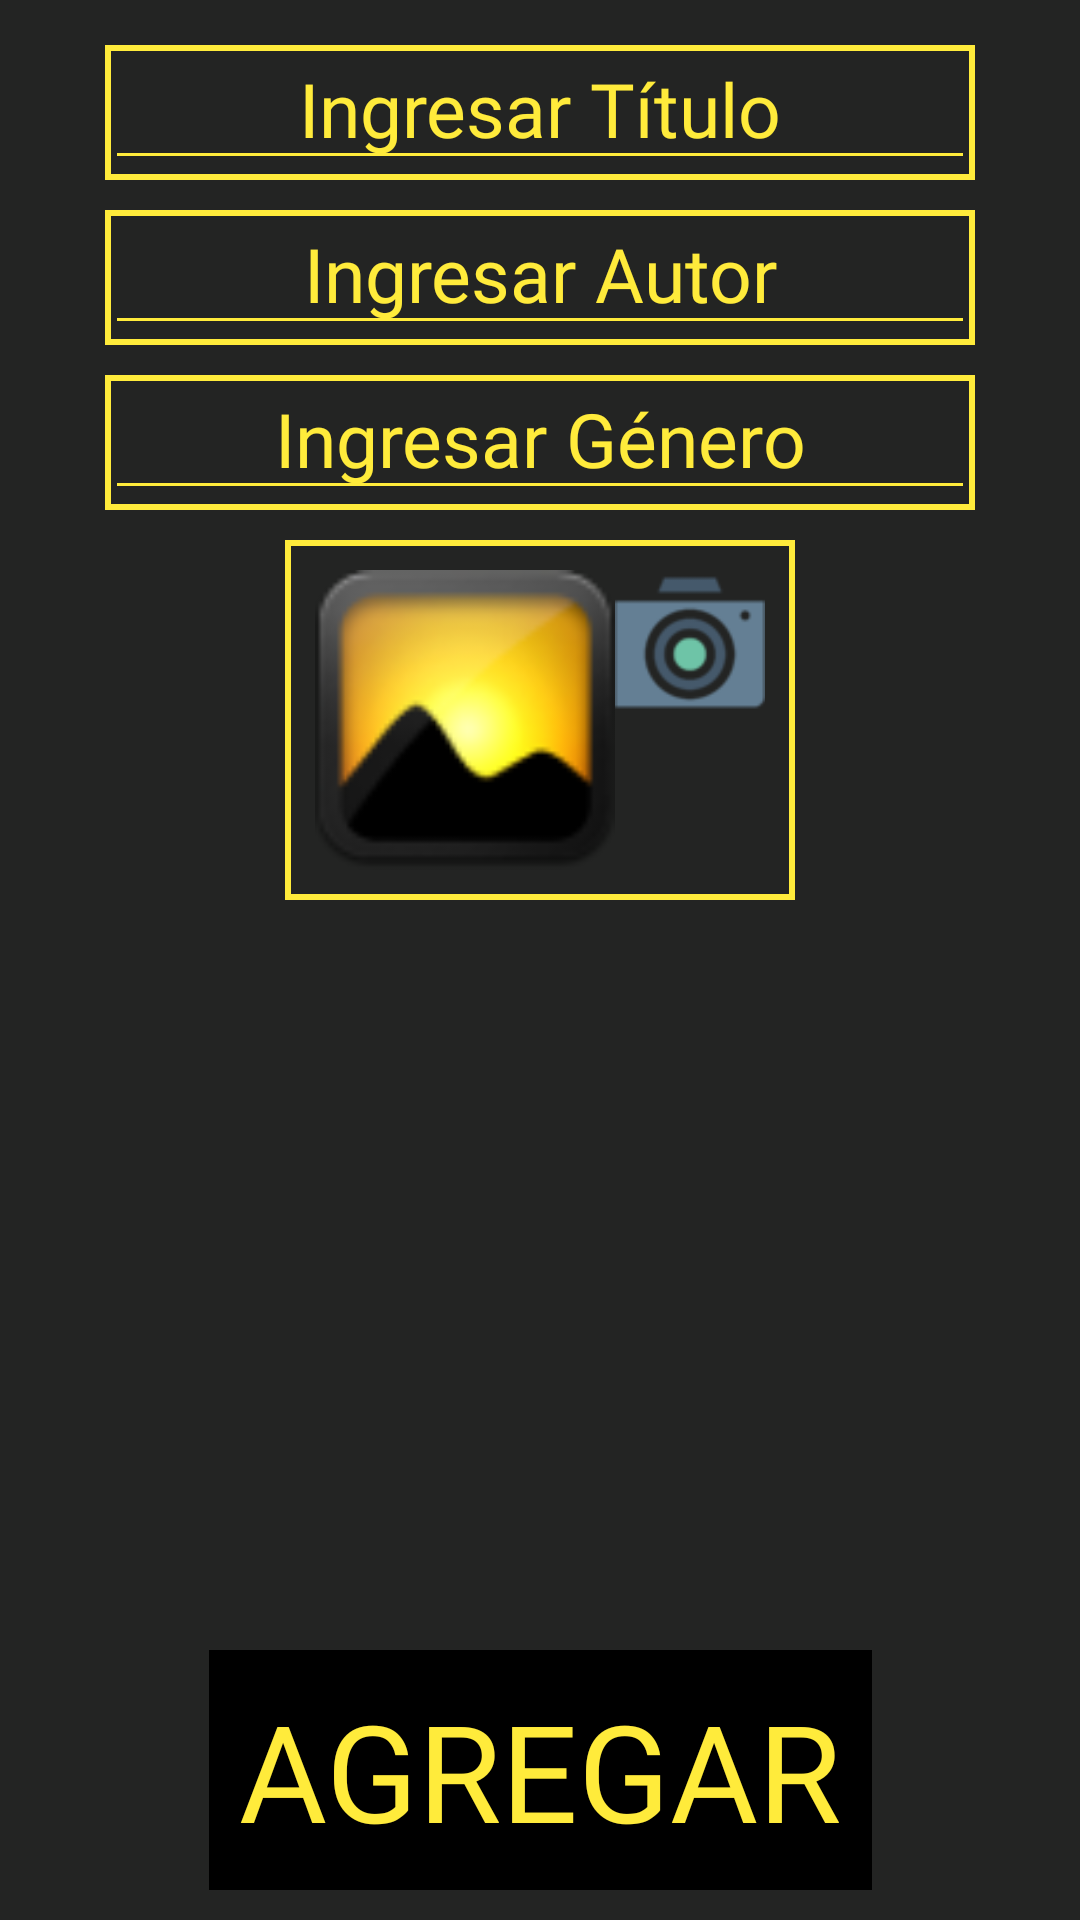

Icon click points for this 1080 x 1920 phone screenshot, format point (x, y):
camara: point (690, 642)
